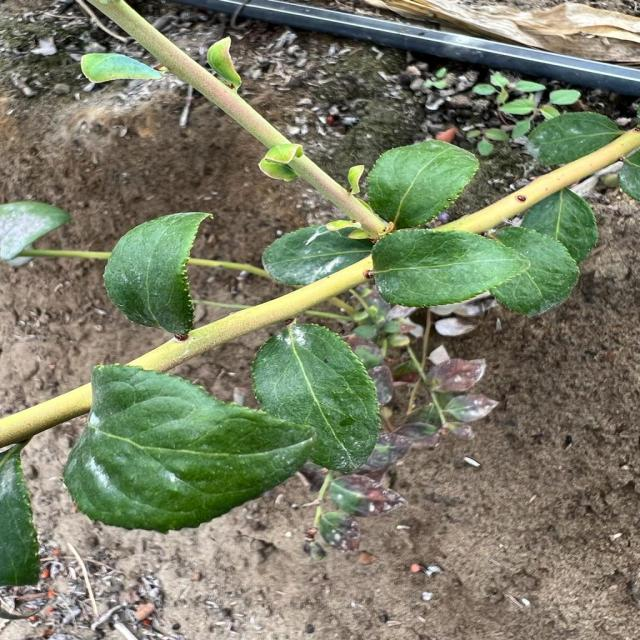Hojas sanas sin oidiosis: (84, 404, 294, 494), (86, 218, 215, 314), (284, 327, 385, 438), (0, 448, 59, 593), (376, 241, 516, 299), (367, 146, 459, 212)
